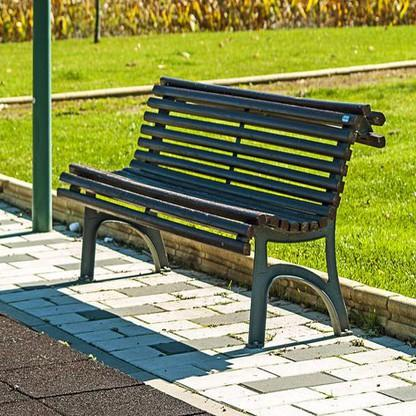obstacle: (55, 75, 394, 350)
